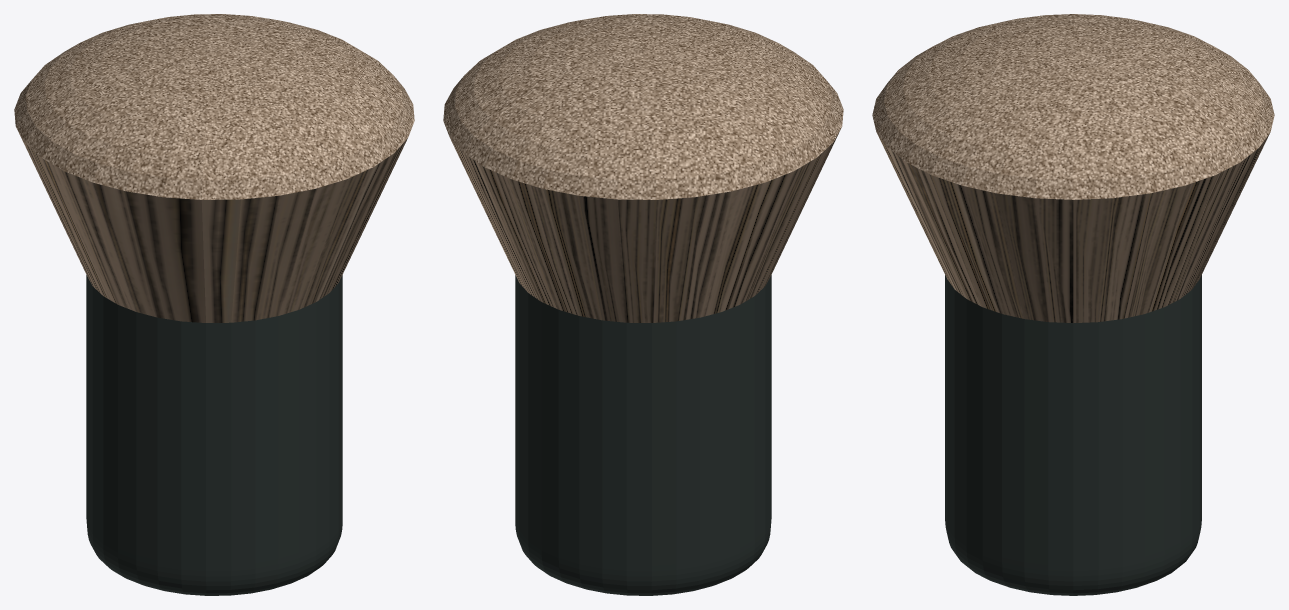
The model's file is Brush.fbx.
3 views of the same model, side by side, from view 1: azimuth 30°, elevation 25°; view 2: azimuth 150°, elevation 25°; view 3: azimuth 270°, elevation 25° (orthographic).
Visible parts, largest first — view 1: Sphere, Cylinder; view 2: Sphere, Cylinder; view 3: Sphere, Cylinder.
Part boxes in pixels (x1,y1,x2,y2): Sphere: (14,14,414,322); Cylinder: (86,275,342,595); Sphere: (443,14,843,322); Cylinder: (515,275,771,595); Sphere: (872,14,1274,323); Cylinder: (945,275,1201,595).
Size of the model in its own units: 21.83 by 30.03 by 21.92.
